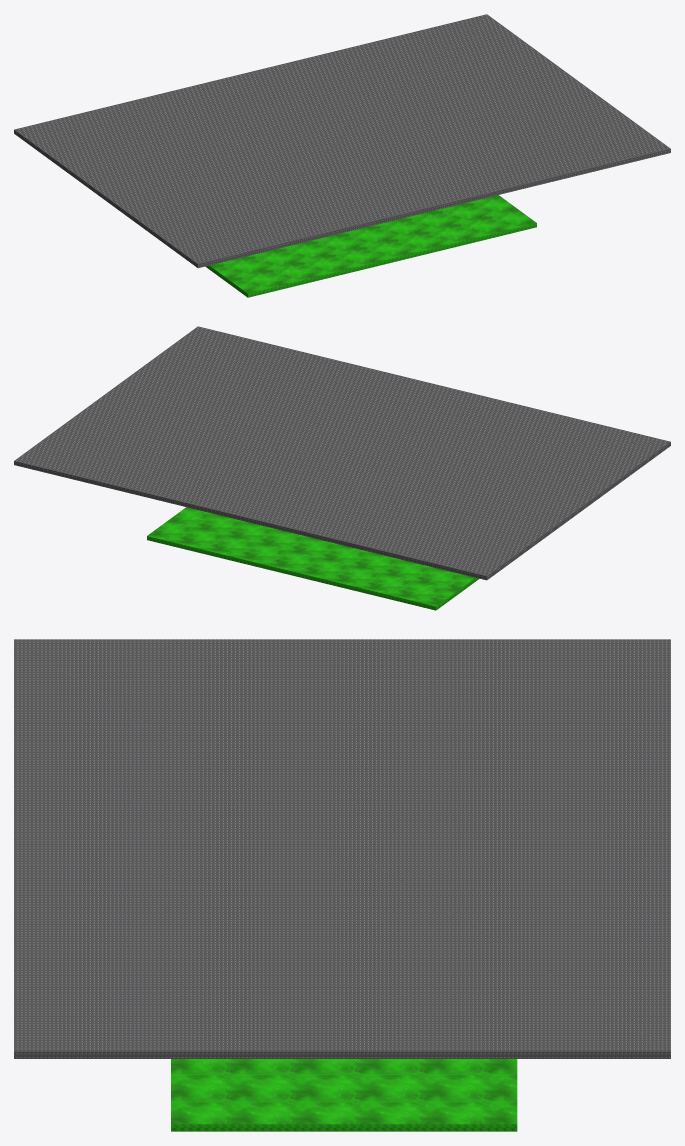
The model's file is Shooter_brush.glb.
3 renders of one model, top to bottom at view 1: azimuth 30°, elevation 25°; view 2: azimuth 150°, elevation 25°; view 3: azimuth 270°, elevation 25°, orthographic. The views are drawn at different scales.
Visible parts, largest first — view 1: Shooter; view 2: Shooter; view 3: Shooter.
Boxes of the visible parts, x1,y1,x2,y2 form: Shooter: (14, 14, 670, 297); Shooter: (14, 326, 670, 610); Shooter: (14, 639, 670, 1131).
Size of the model in its own units: 30978 by 5550 by 20868.
Materials: 2 (2 with a texture image).
